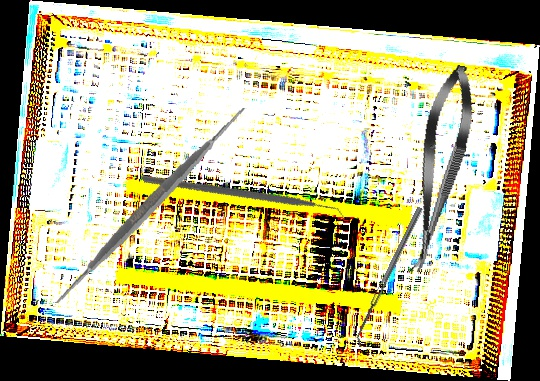Chopper: (140, 108, 349, 293)
Micro Scissor: (396, 61, 483, 277)
Spatula Surgical: (39, 94, 263, 317), (351, 206, 428, 348)
